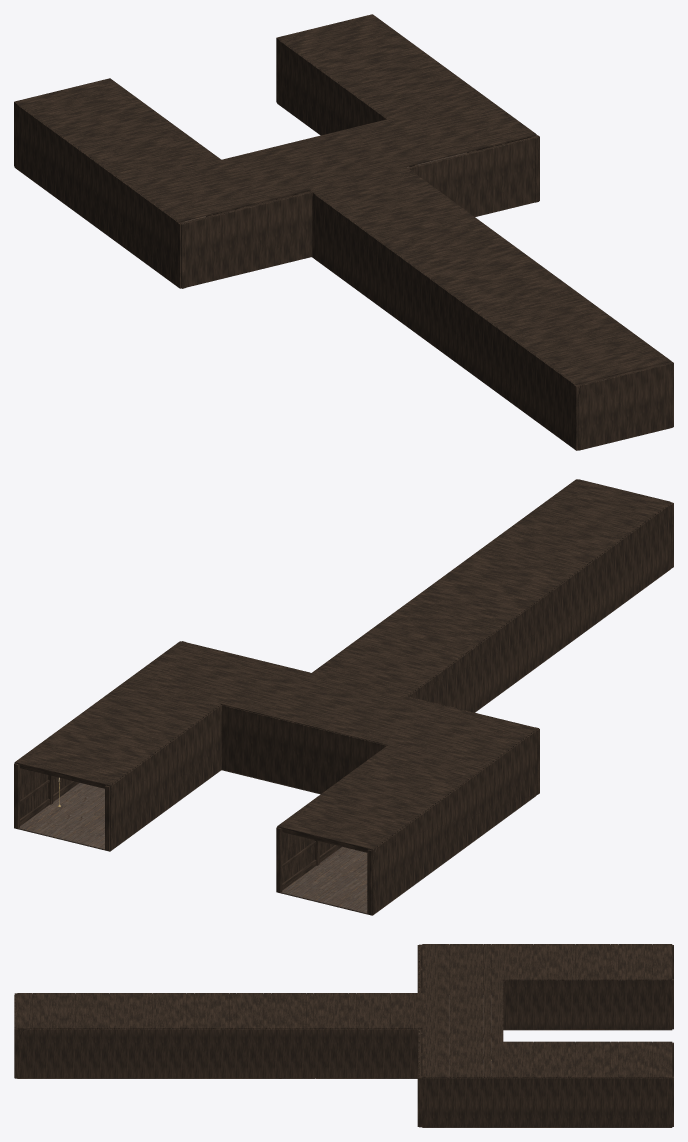
Rendered from corridor-block-01.glb.
3 renders of one model, top to bottom at view 1: azimuth 30°, elevation 25°; view 2: azimuth 150°, elevation 25°; view 3: azimuth 270°, elevation 25°, orthographic. The views are drawn at different scales.
Visible parts, largest first — view 1: Spine ceiling board, Spine floorboard; view 2: Spine ceiling board, Spine floorboard; view 3: Spine ceiling board, Spine floorboard.
Part boxes in pixels (x1=…): Spine ceiling board: x1=14, y1=14, x2=673, y2=450; Spine floorboard: x1=14, y1=103, x2=573, y2=448; Spine ceiling board: x1=14, y1=479, x2=673, y2=915; Spine floorboard: x1=16, y1=569, x2=670, y2=915; Spine ceiling board: x1=14, y1=944, x2=673, y2=1127; Spine floorboard: x1=17, y1=995, x2=672, y2=1127.
Size of the model in its own units: 16.46 by 2.9 by 34.29.
4 materials, 3 textured.
